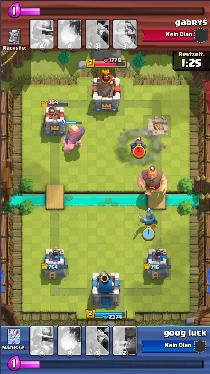ally_giant: (62, 123, 86, 152)
ally_knight: (138, 212, 159, 227)
enemy_giant: (137, 167, 168, 195)
enemy_mini_pekka: (130, 139, 146, 153)
